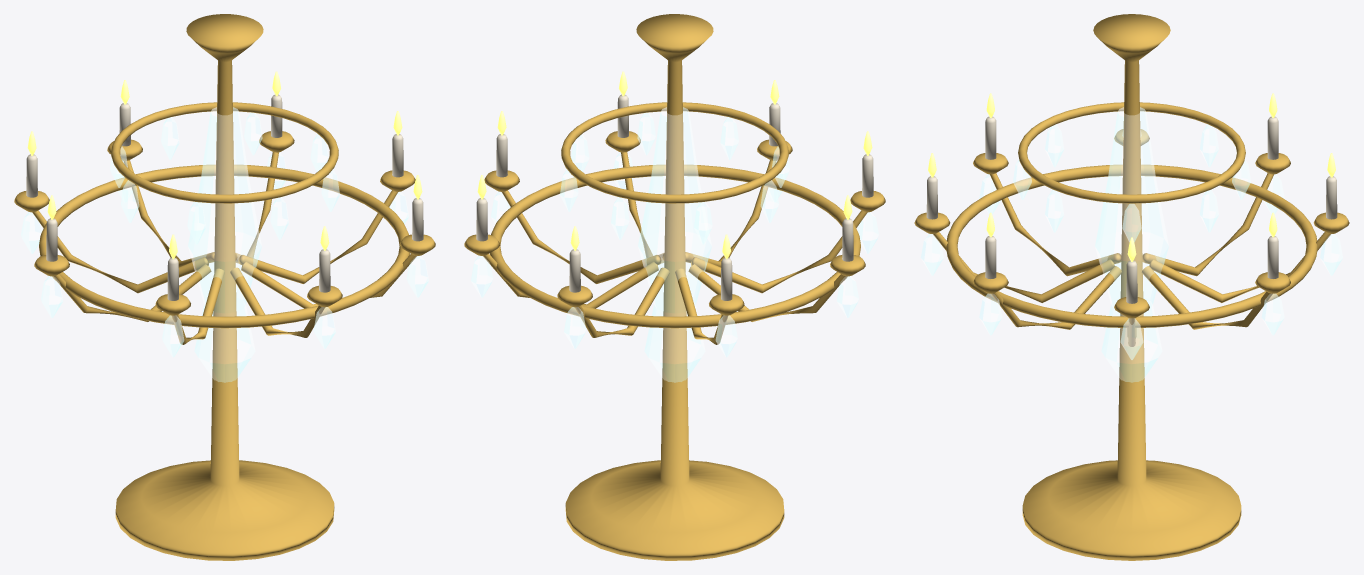
Rendered from webtoon-lumiere-crystal-chandelier-v17.glb.
3 renders of one model, left to right at view 1: azimuth 30°, elevation 25°; view 2: azimuth 150°, elevation 25°; view 3: azimuth 270°, elevation 25°, orthographic.
Parts seen in each view (by area): view 1: ChandelierFiligreeGold, ChandelierDispersionPrisms, ChandelierIvoryCandles, Chandelier3200KFlames; view 2: ChandelierFiligreeGold, ChandelierDispersionPrisms, ChandelierIvoryCandles, Chandelier3200KFlames; view 3: ChandelierFiligreeGold, ChandelierDispersionPrisms, ChandelierIvoryCandles, Chandelier3200KFlames.
Boxes of the visible parts, <box> form: ChandelierFiligreeGold: <box>14,14,435,560</box>; ChandelierDispersionPrisms: <box>21,107,428,382</box>; ChandelierIvoryCandles: <box>26,94,423,300</box>; Chandelier3200KFlames: <box>27,71,422,259</box>; ChandelierFiligreeGold: <box>464,14,885,560</box>; ChandelierDispersionPrisms: <box>471,107,878,382</box>; ChandelierIvoryCandles: <box>476,94,873,300</box>; Chandelier3200KFlames: <box>477,71,872,259</box>; ChandelierFiligreeGold: <box>914,14,1349,560</box>; ChandelierDispersionPrisms: <box>921,107,1342,382</box>; ChandelierIvoryCandles: <box>926,116,1337,303</box>; Chandelier3200KFlames: <box>928,93,1335,261</box>.
Size of the model in its own units: 1.35 by 1.66 by 1.35.
